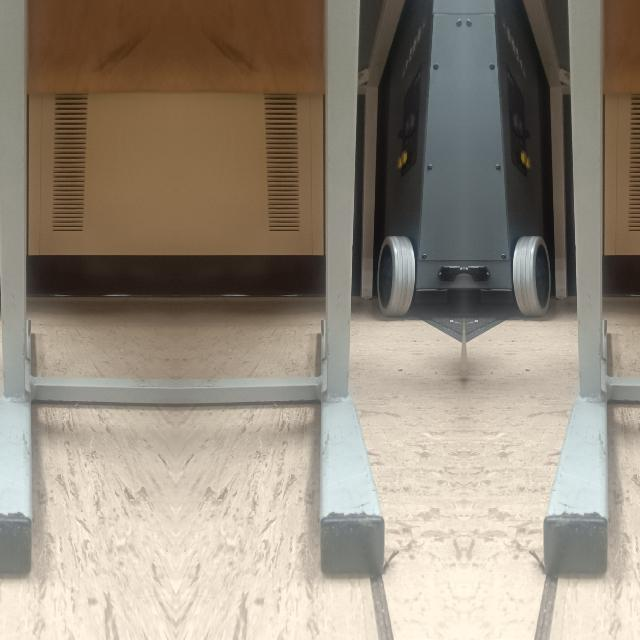obstacle: (314, 244, 386, 574), (542, 244, 614, 574), (0, 244, 35, 574)
